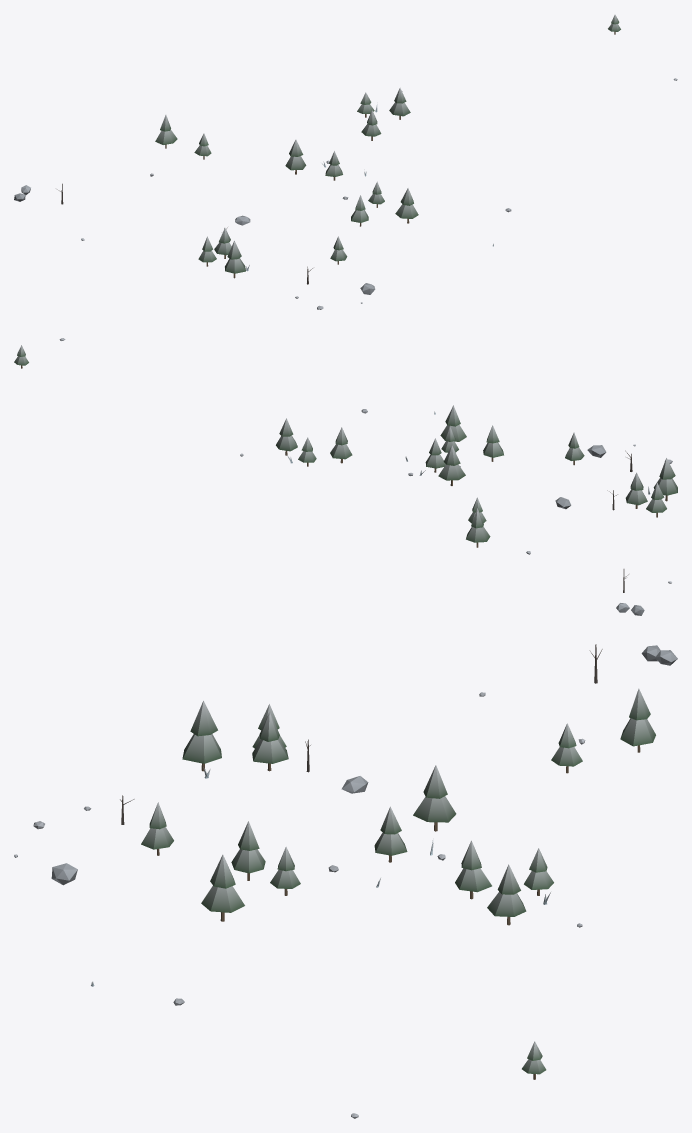
Rendered from frost_land_scatter_c24_10_lod1.glb.
The picture shows the model from 3 angles, top to bottom: view 1: azimuth 30°, elevation 25°; view 2: azimuth 150°, elevation 25°; view 3: azimuth 270°, elevation 25°; orthographic projection. The views are drawn at different scales.
Parts seen in each view (by area): view 1: frost_land_scatter_c24_10_lod1; view 2: frost_land_scatter_c24_10_lod1; view 3: frost_land_scatter_c24_10_lod1.
Part boxes in pixels (x1,y1,x2,y2): frost_land_scatter_c24_10_lod1: (14,14,677,309); frost_land_scatter_c24_10_lod1: (14,338,677,615); frost_land_scatter_c24_10_lod1: (14,644,677,1118).
Bounding box in the file's own units: 204 × 32.47 × 107.
